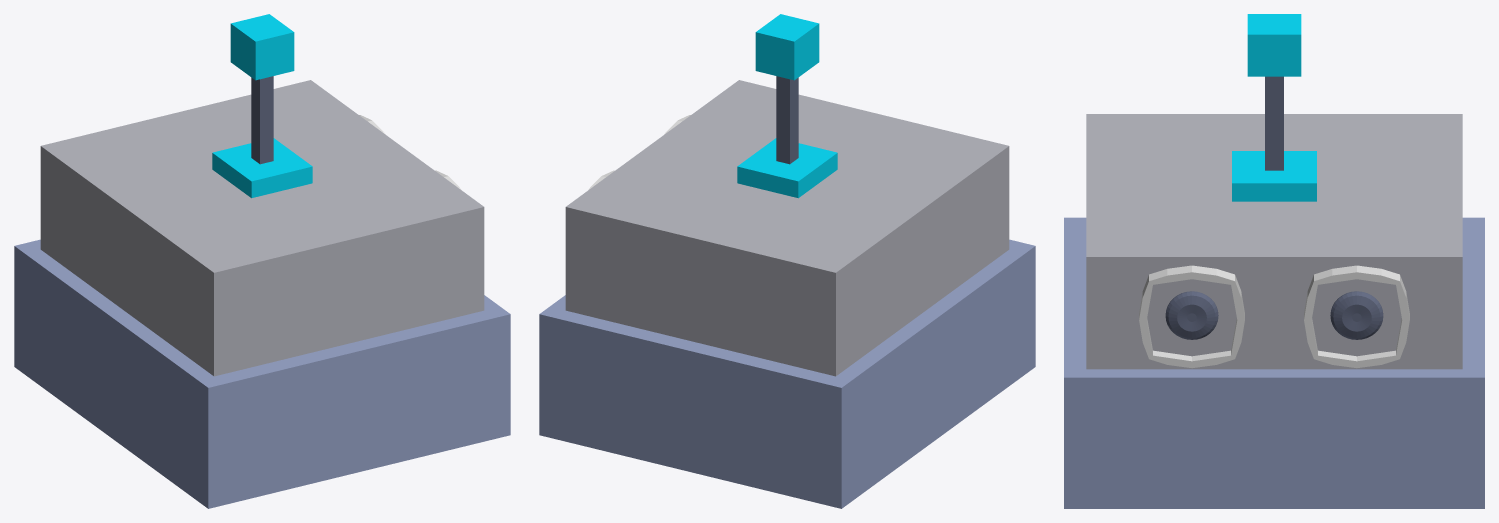
File: lds_2.dae
3 renders of one model, left to right at view 1: azimuth 30°, elevation 25°; view 2: azimuth 150°, elevation 25°; view 3: azimuth 270°, elevation 25°, orthographic. The views are drawn at different scales.
Visible parts, largest first — view 1: Cube; view 2: Cube; view 3: Cube.
Boxes of the visible parts, left/top/right/bottom form: Cube: left=14, top=14, right=510, bottom=508; Cube: left=539, top=14, right=1035, bottom=508; Cube: left=1064, top=14, right=1484, bottom=508.
Size of the model in its own units: 68.86 by 76.56 by 81.25.
